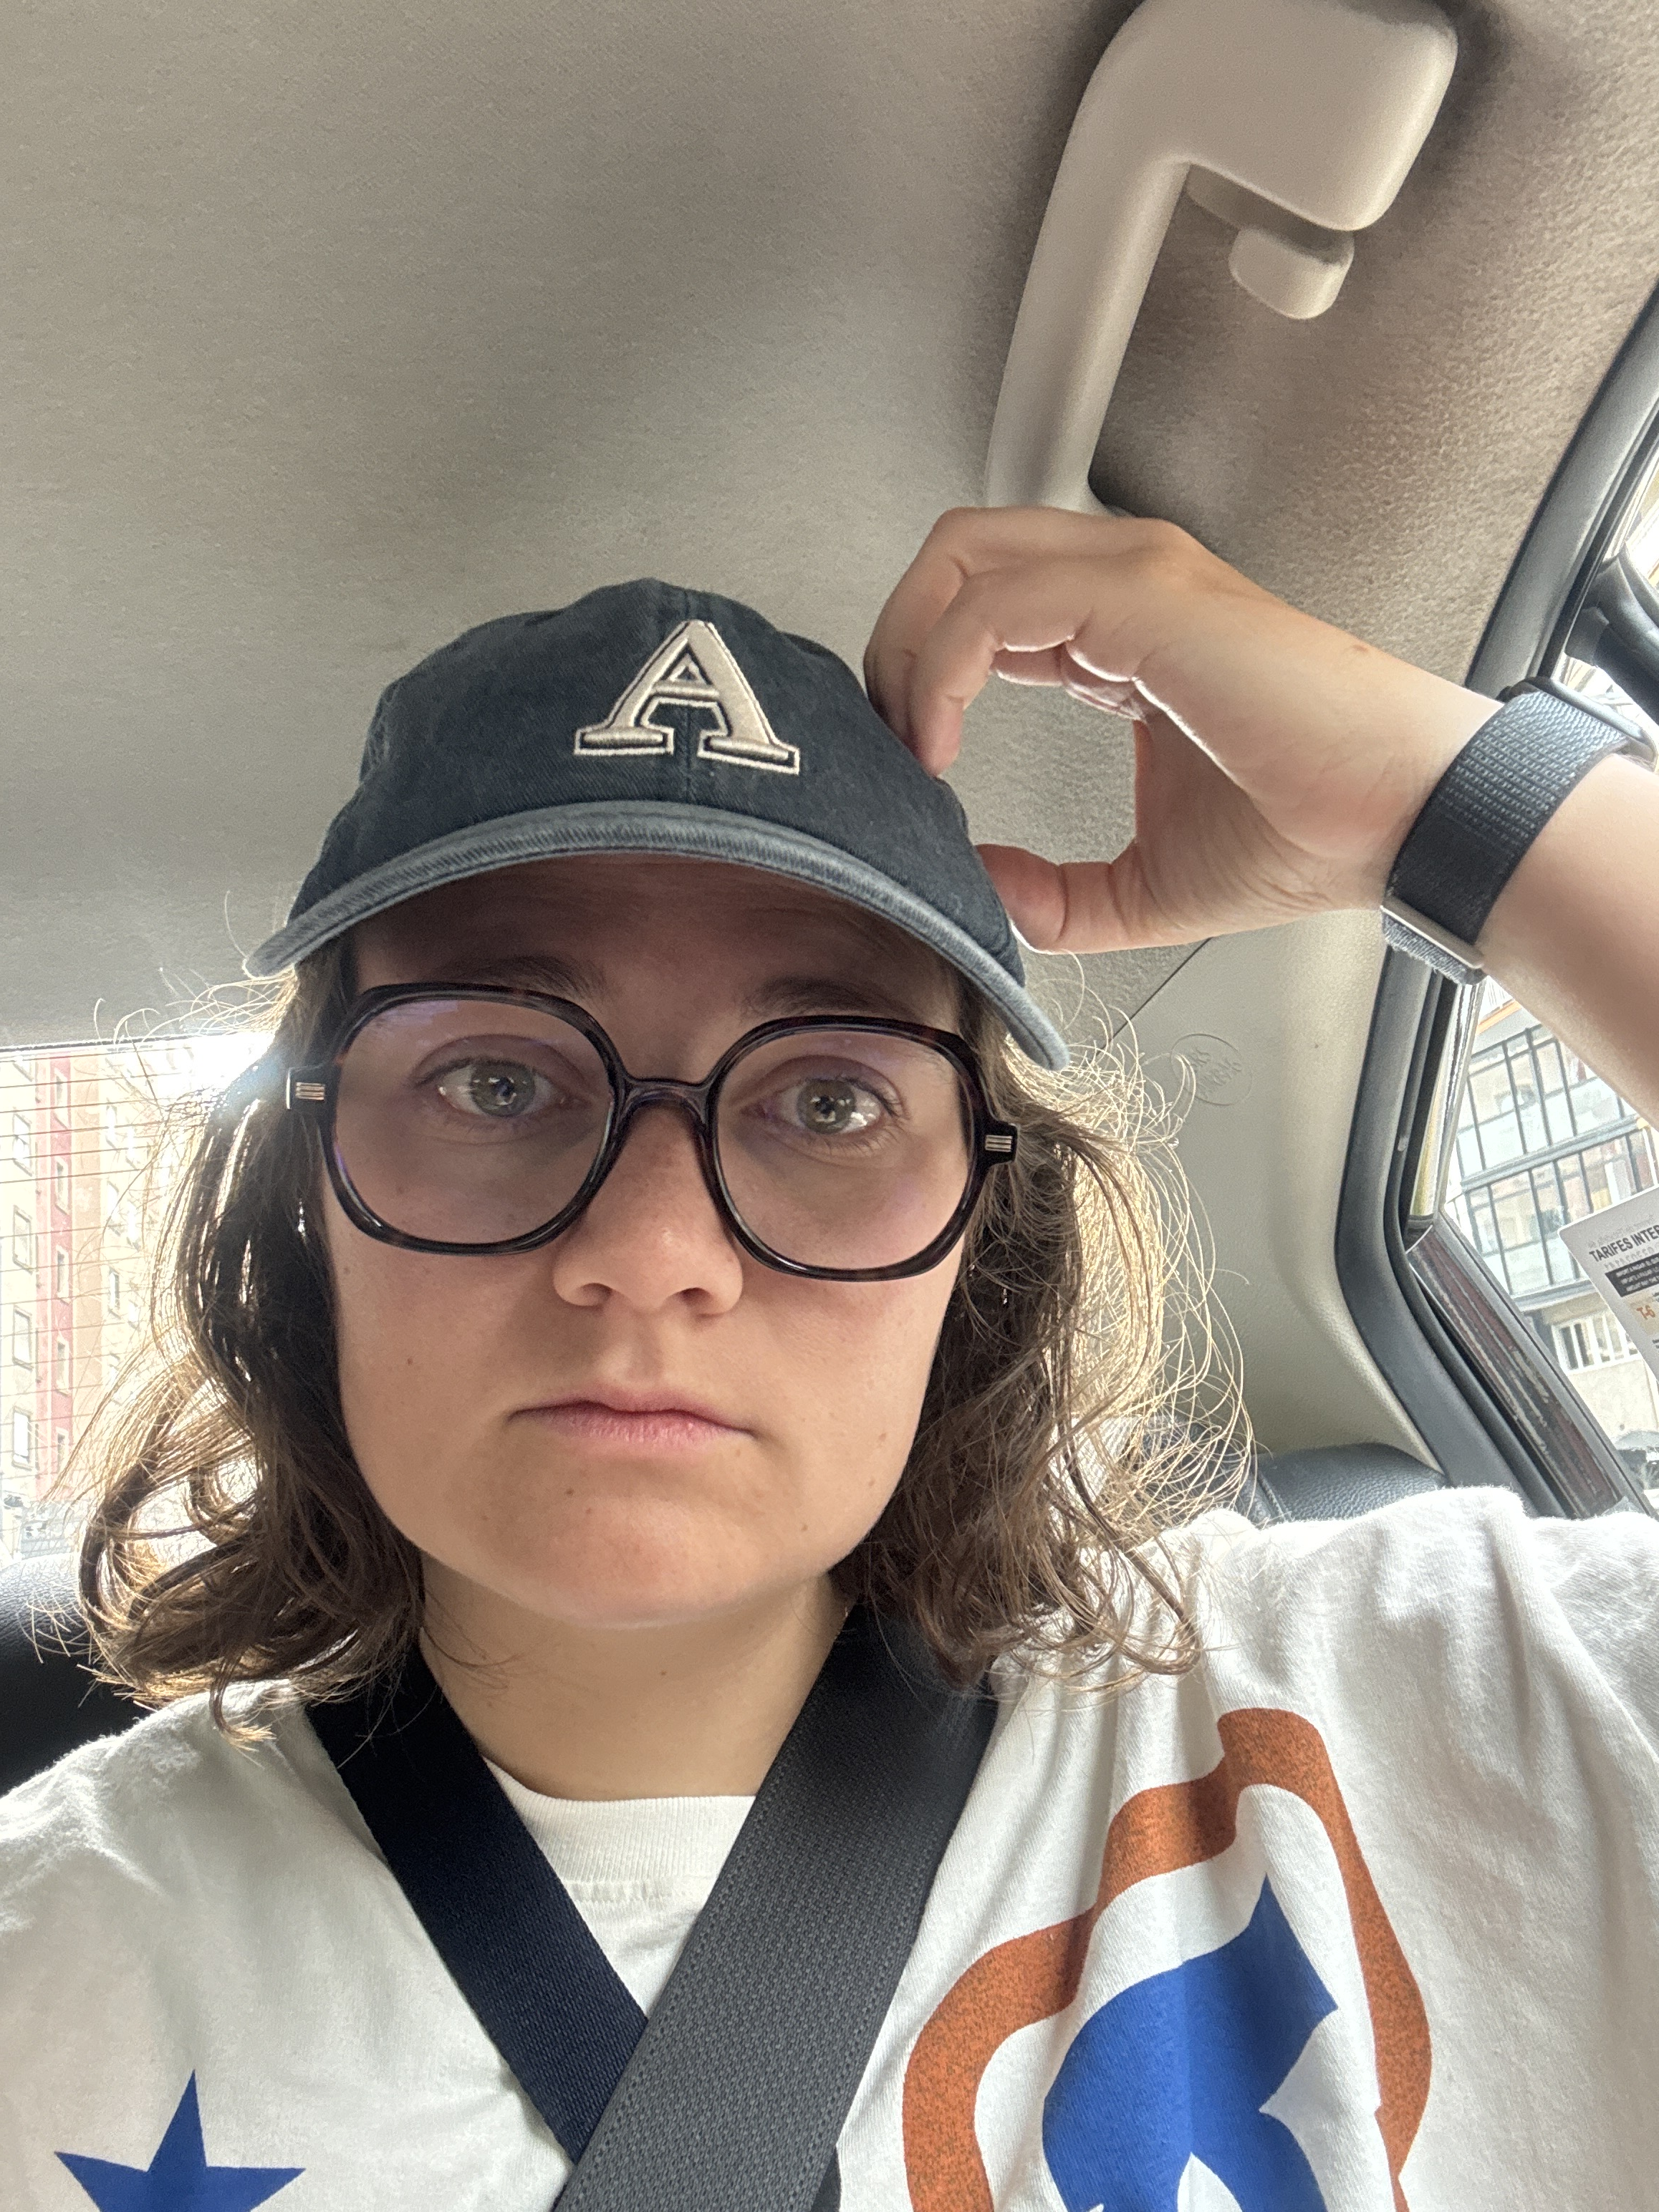brain: (44, 578, 1265, 1752), (568, 613, 805, 780)
